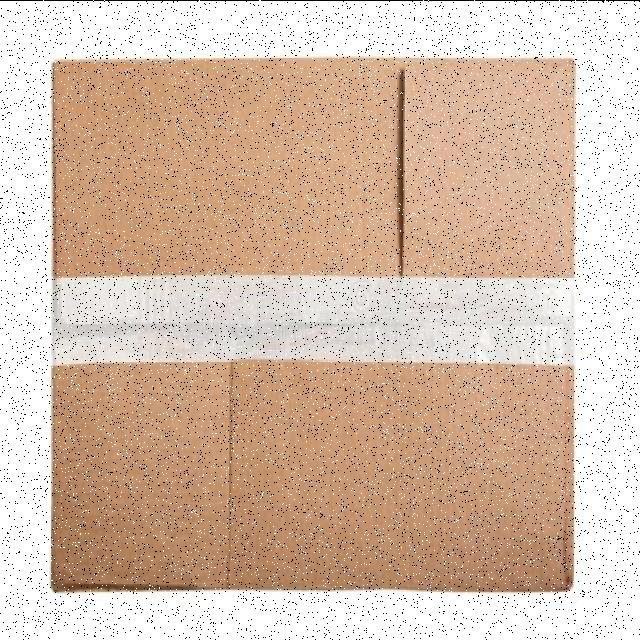normal: (48, 48, 580, 595)
